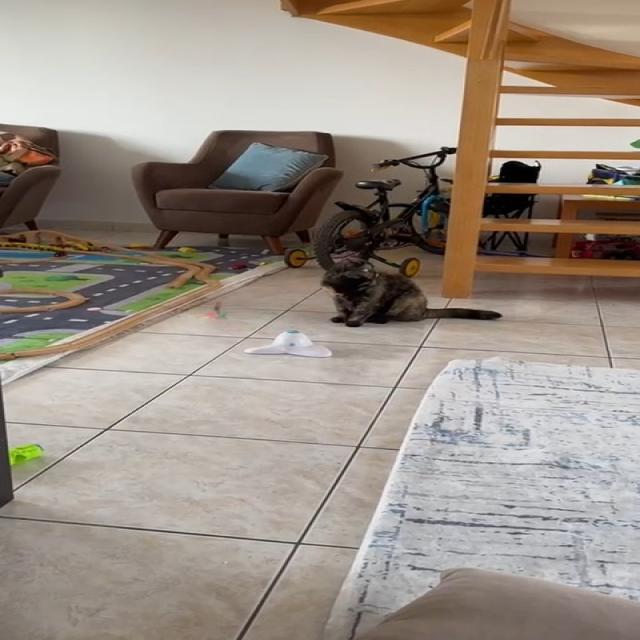authorized: (319, 256, 501, 328)
